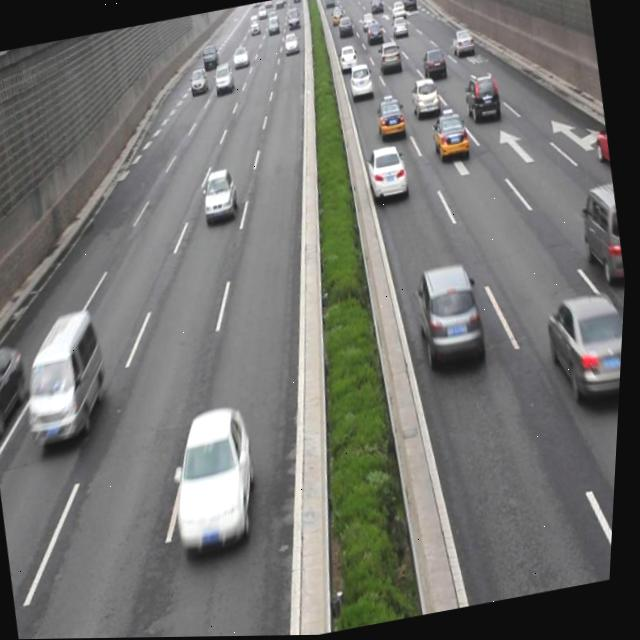car: (164, 405, 270, 554), (542, 286, 628, 408), (410, 258, 493, 372), (0, 341, 37, 440), (364, 143, 410, 203), (460, 70, 504, 130), (199, 165, 242, 223), (429, 110, 471, 165), (372, 93, 409, 144), (408, 75, 443, 122), (591, 116, 615, 174), (346, 60, 376, 102), (418, 45, 448, 83), (448, 24, 478, 60), (376, 39, 403, 75)
truck: (14, 307, 120, 447), (577, 184, 632, 288)
